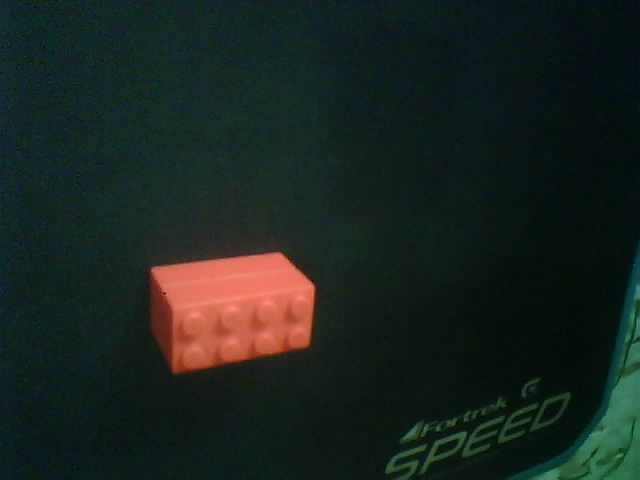lego: (148, 250, 315, 377)
